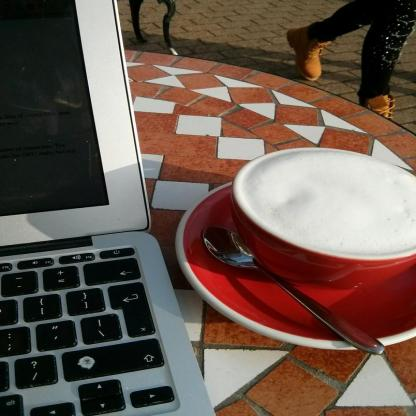board: (0, 0, 216, 416)
